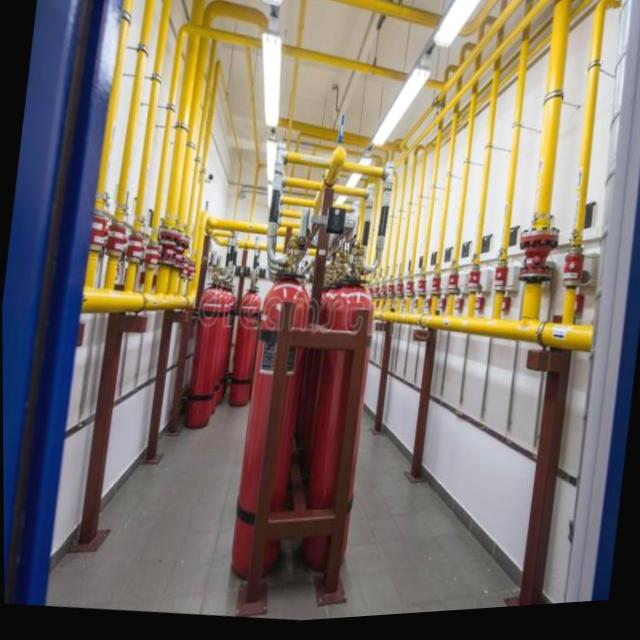FireExtinguisher: (219, 230, 323, 590), (287, 266, 385, 585), (180, 261, 233, 437), (222, 268, 266, 412)
